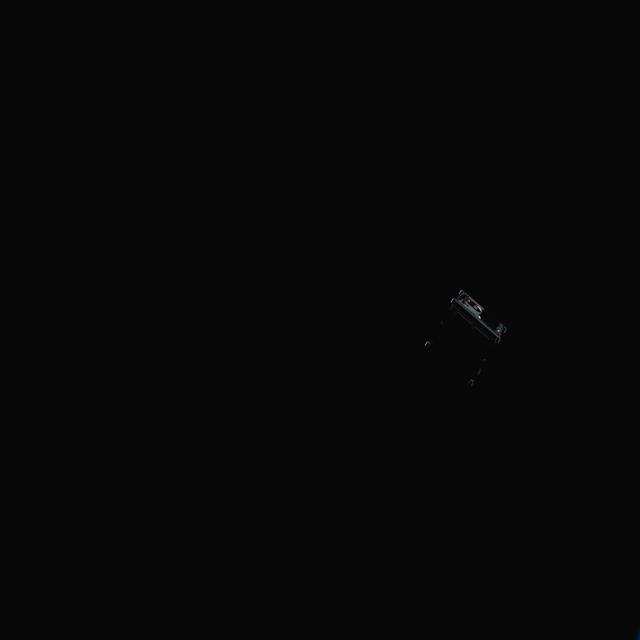medium_debris: (418, 286, 516, 397)
